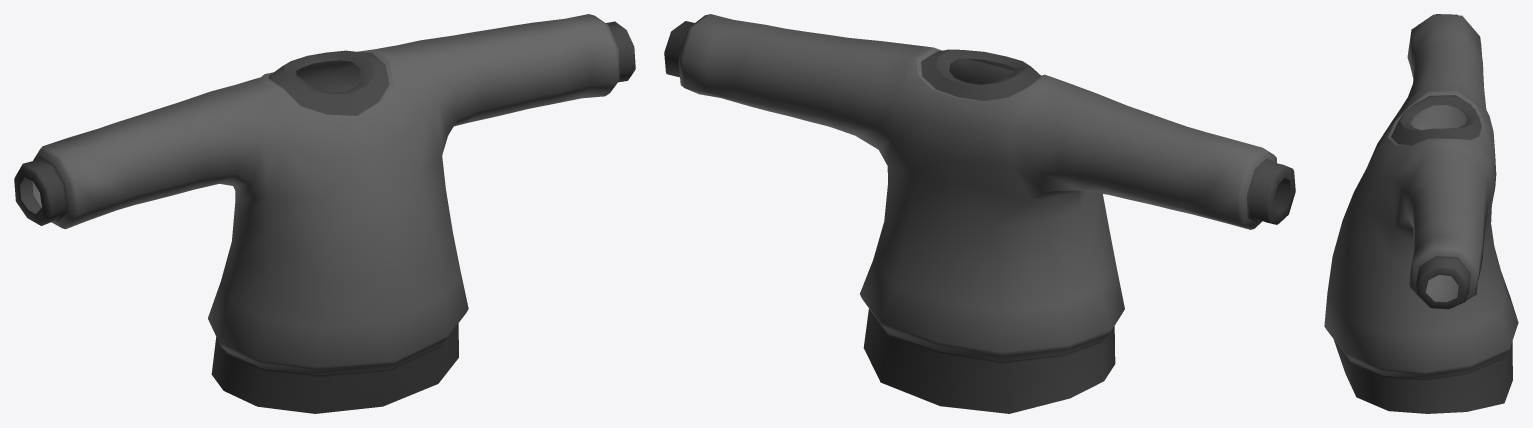
The model's file is Outerwear_Black_014.glb.
3 views of the same model, side by side, from view 1: azimuth 30°, elevation 25°; view 2: azimuth 150°, elevation 25°; view 3: azimuth 270°, elevation 25° (orthographic). The views are drawn at different scales.
Parts seen in each view (by area): view 1: Outerwear_Black_014; view 2: Outerwear_Black_014; view 3: Outerwear_Black_014.
Boxes of the visible parts, <box> form: Outerwear_Black_014: <box>14,14,635,413</box>; Outerwear_Black_014: <box>664,14,1295,413</box>; Outerwear_Black_014: <box>1324,14,1518,413</box>.
Size of the model in its own units: 1.29 by 0.637 by 0.4186.
Materials: 1 (1 with a texture image).
